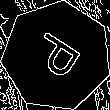P_SE: (25, 27, 88, 86)
